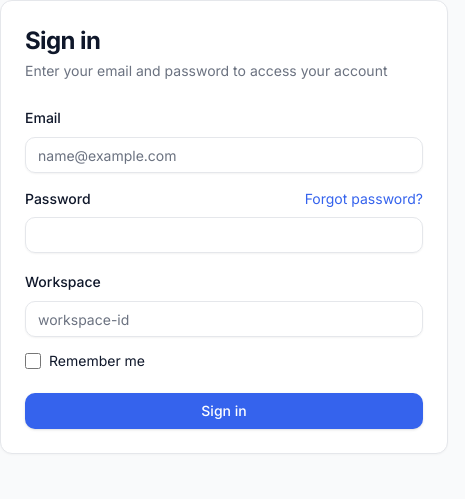
Scenario: LoginForm › validation › should show error for empty password
Type "test@example.com" into the field labelled "Email" at [224, 155], box [25,137,423,173]
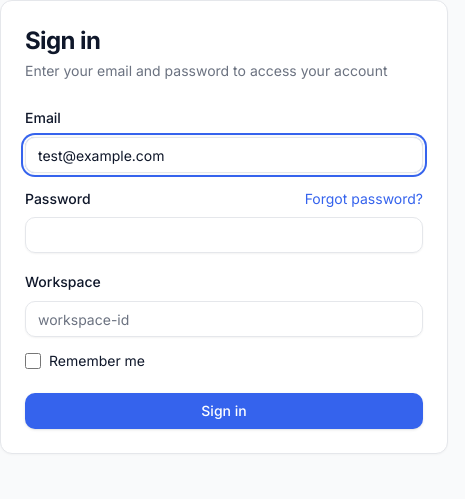
Type "test-tenant" into the field labelled "Workspace" at [224, 319], box [25,301,423,337]
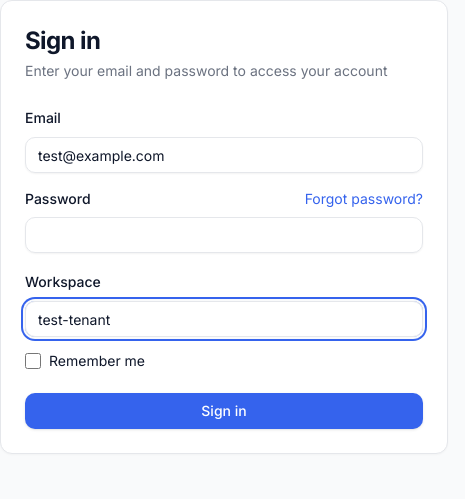
Click the button "Sign in" at [224, 411], box [25,393,423,429]
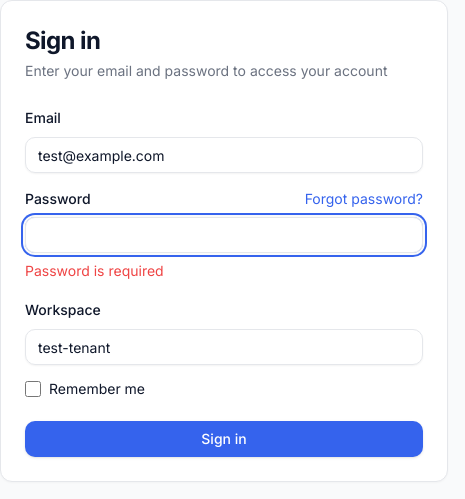
Check: the text "Password is required" is shown, box [25,262,164,279]
